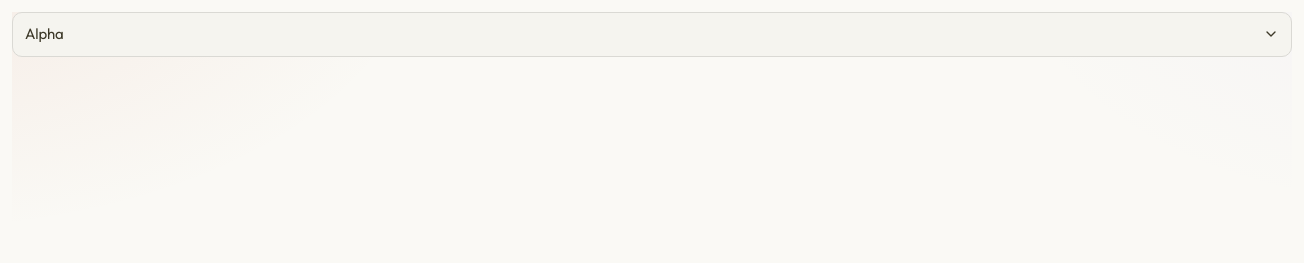
Select › closes on Escape and returns focus to the trigger
This screenshot has width=1304, height=263.
Click the button with aria-label "Status": (44, 34) [12, 12, 1292, 56]
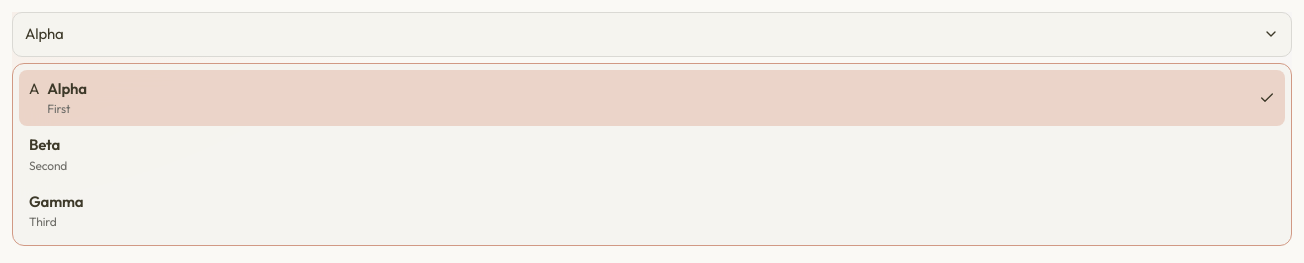
Now the list is shown
Press Escape
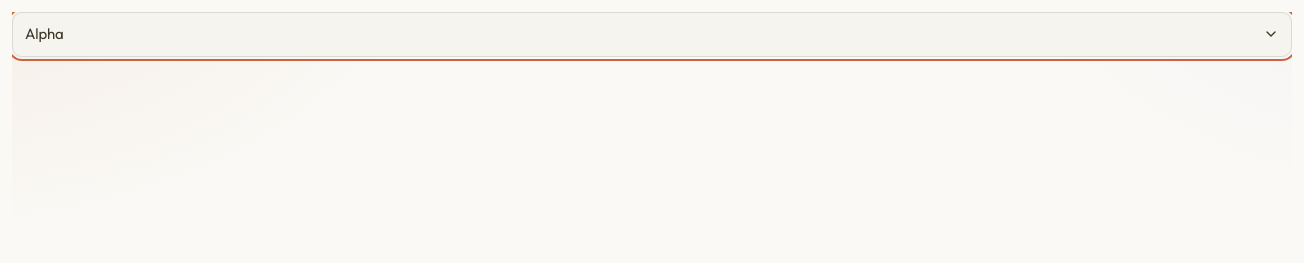
Now the list is gone
